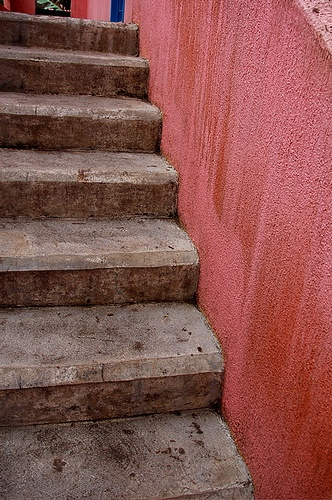stairs_up: (1, 7, 250, 500)
